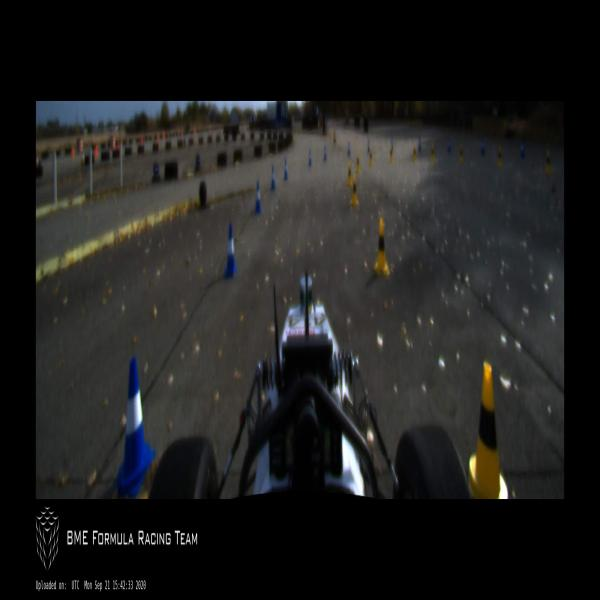blue_cone: (111, 355, 155, 498), (223, 222, 238, 280), (253, 182, 262, 210), (270, 168, 275, 188), (284, 161, 288, 179), (308, 150, 312, 167), (447, 137, 451, 154), (520, 141, 524, 158), (418, 135, 421, 153), (481, 138, 484, 156), (367, 141, 370, 153), (324, 145, 326, 162), (348, 141, 350, 156)
yellow_cone: (463, 364, 512, 499), (373, 218, 389, 275), (496, 144, 504, 170), (545, 150, 553, 176), (352, 175, 358, 206), (346, 162, 352, 188), (458, 141, 464, 166), (356, 151, 361, 175), (412, 143, 417, 163), (430, 143, 435, 163), (368, 147, 373, 166), (388, 144, 393, 162)
